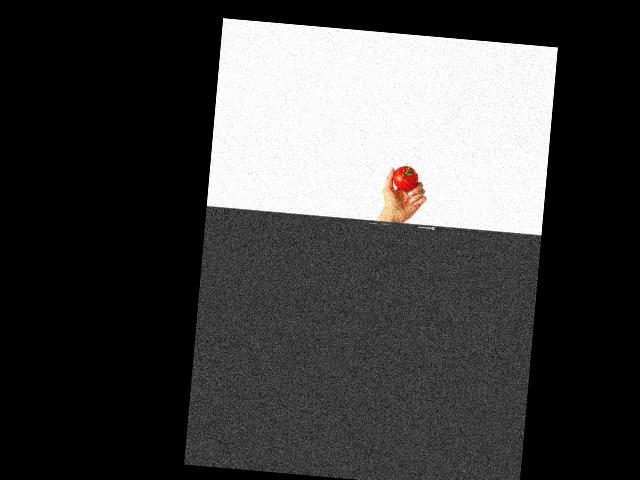tomato: (391, 164, 418, 192)
